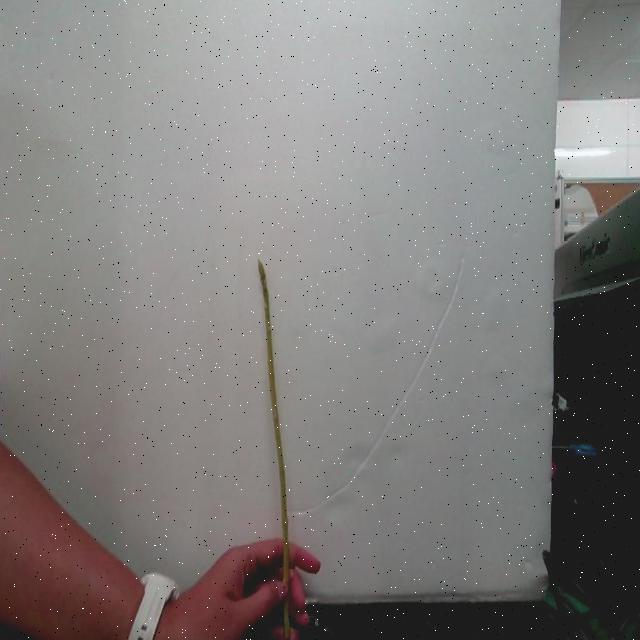aspargus: (257, 261, 290, 580)
